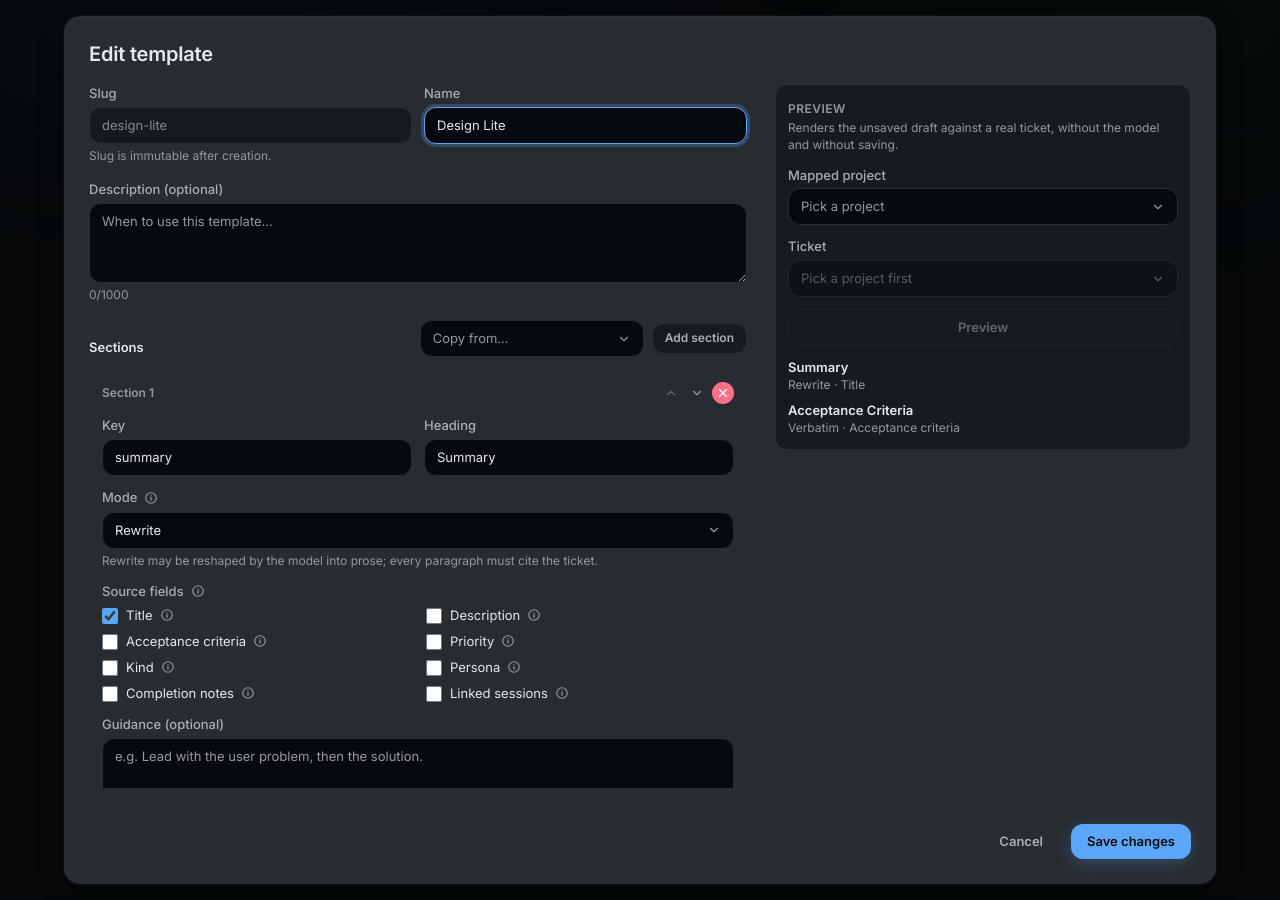
TemplateEditorDialog › searches mapped projects in the preview picker
Click the button named "Mapped project" at (843, 206), box [788,188,1178,225]
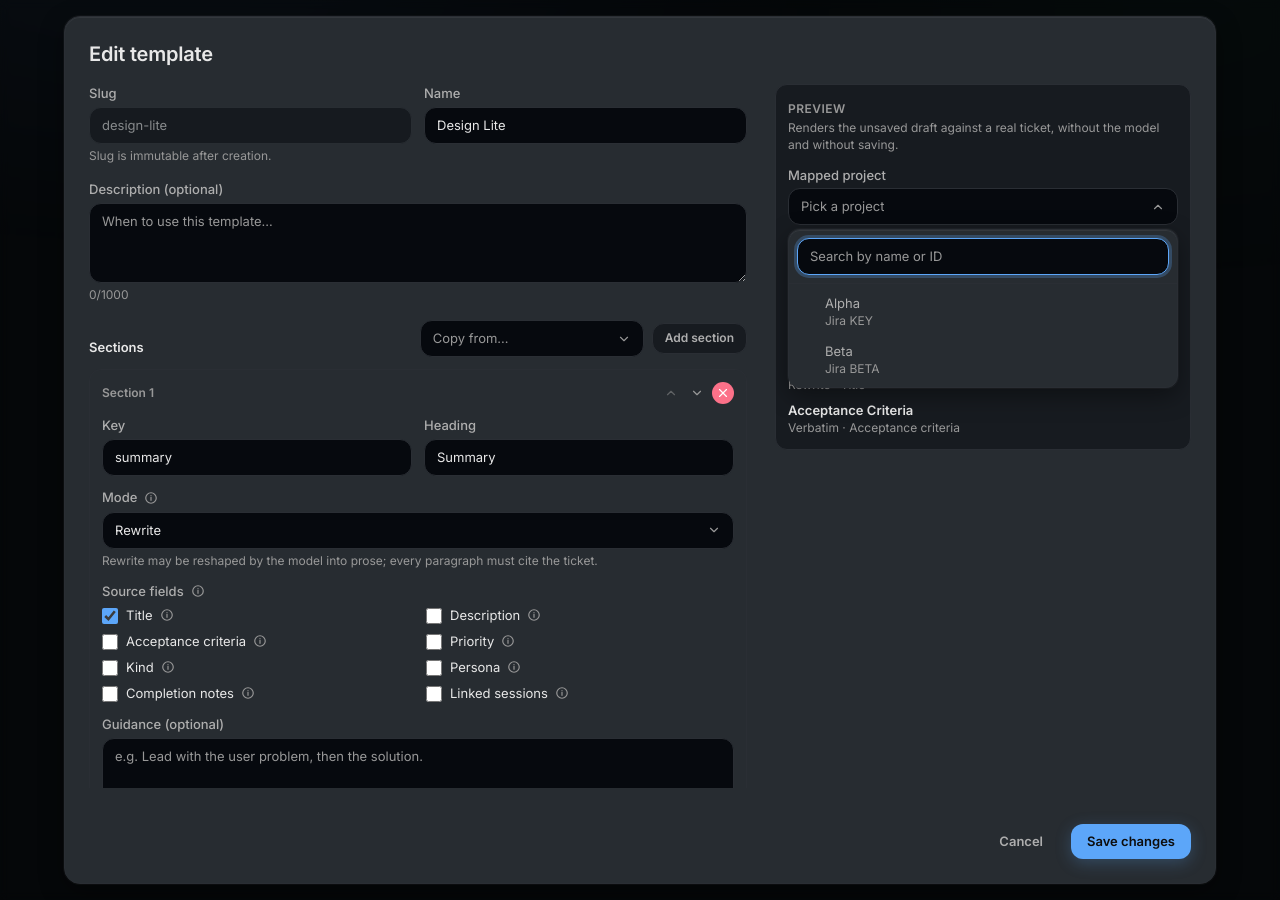
Expected: the option "Beta Jira BETA" is shown, [825,343,880,376]
Type "bet" into the dropdown at (983, 257), box [797,238,1169,275]
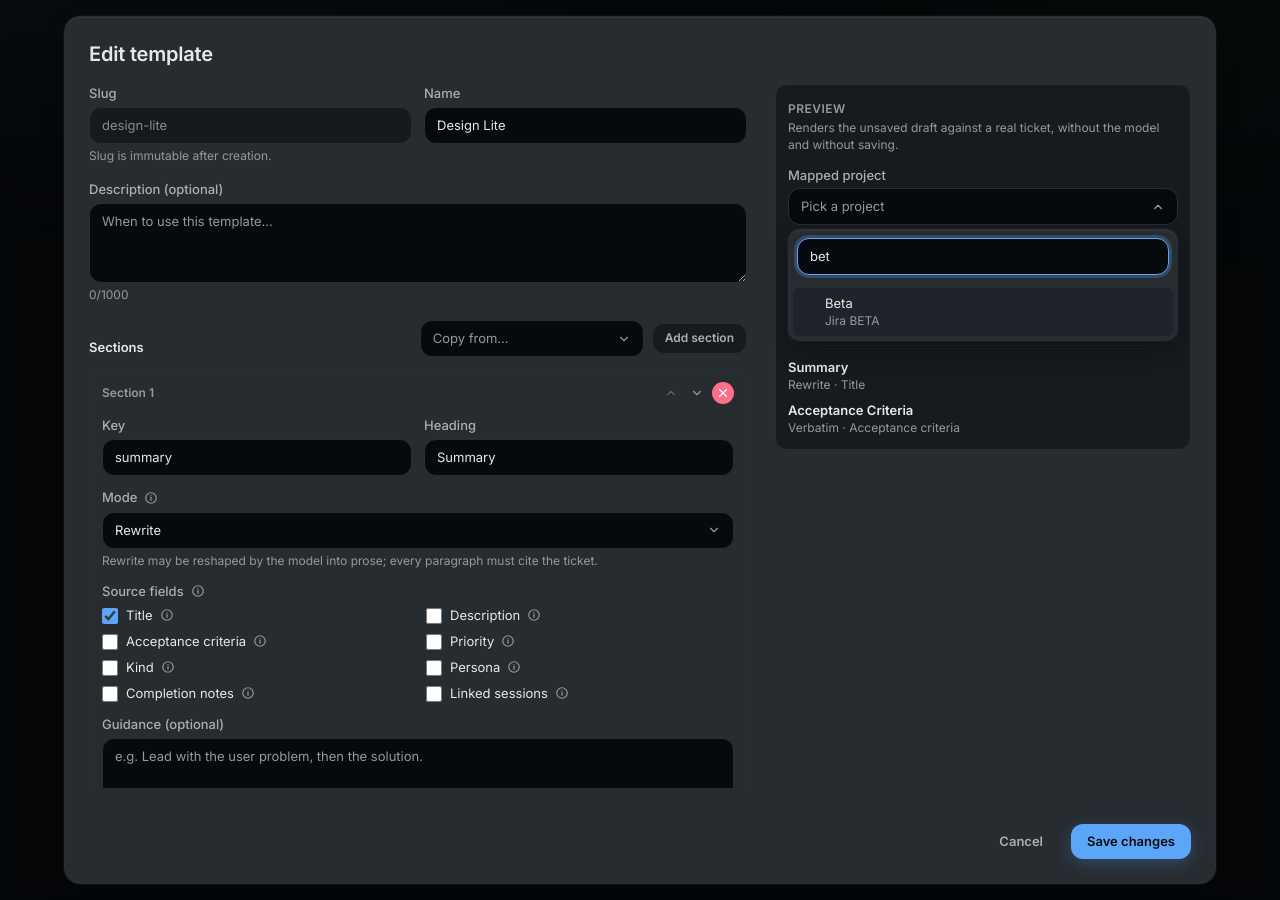
Expected: the option "Alpha" is gone
Click the option "Beta Jira BETA" at (852, 320), box [793,288,1173,336]
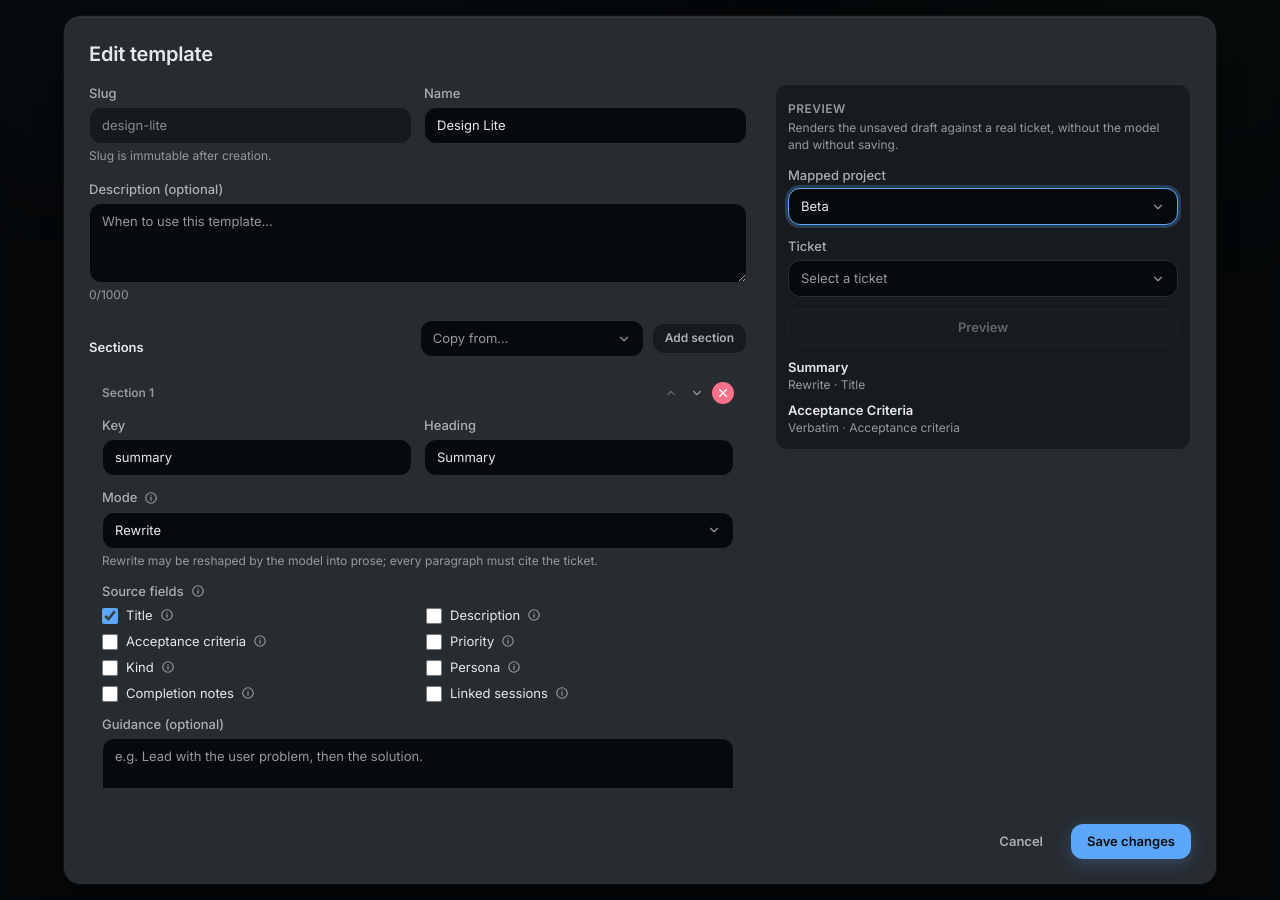
Expected: the button named "Mapped project" reads "Beta", [788,188,1178,225]
